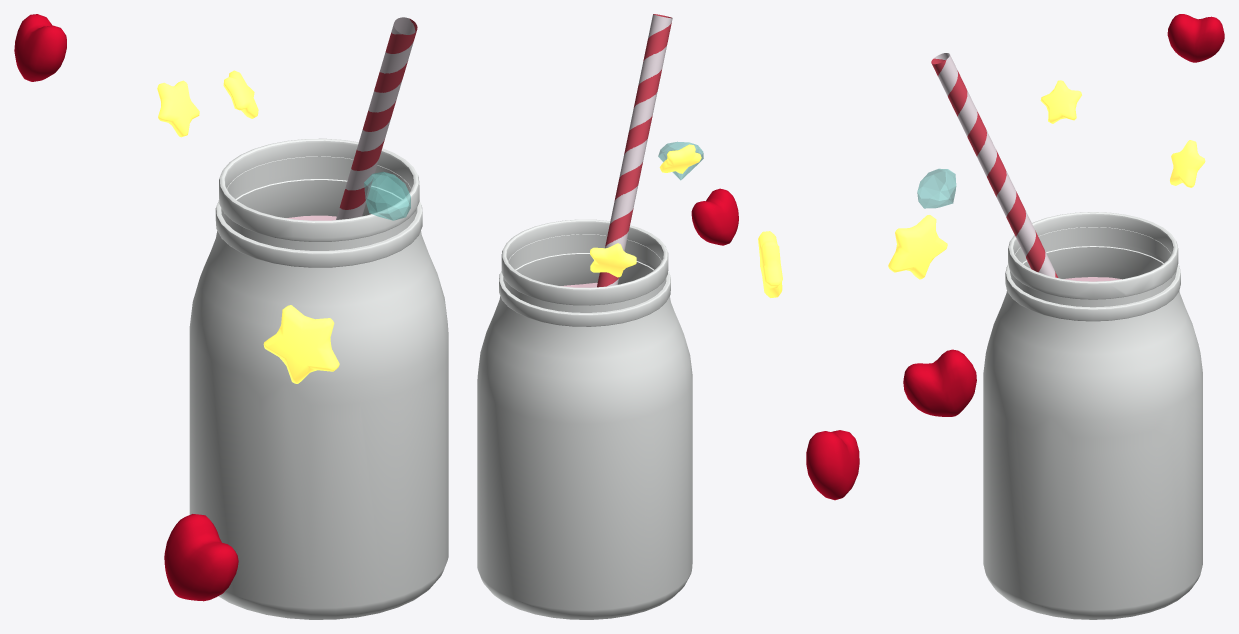
Rendered from cute_milkshake.glb.
3 views of the same model, side by side, from view 1: azimuth 30°, elevation 25°; view 2: azimuth 150°, elevation 25°; view 3: azimuth 270°, elevation 25° (orthographic). The views are drawn at different scales.
Visible parts, largest first — view 1: Object_4, Object_8, Object_12, Object_18; view 2: Object_4, Object_8, Object_12; view 3: Object_4, Object_8, Object_12, Object_18.
Boxes of the visible parts, x1,y1,x2,y2 form: Object_4: (189,138,448,619); Object_8: (14,14,417,601); Object_12: (157,70,339,383); Object_18: (364,172,410,220); Object_4: (477,219,692,619); Object_8: (597,14,859,500); Object_12: (590,144,782,297); Object_4: (983,212,1202,619); Object_8: (903,14,1224,416); Object_12: (888,80,1205,279); Object_18: (917,168,956,208).
Bounding box in the file's own units: 3.12 × 5.24 × 3.06.
5 materials, 5 textured.
